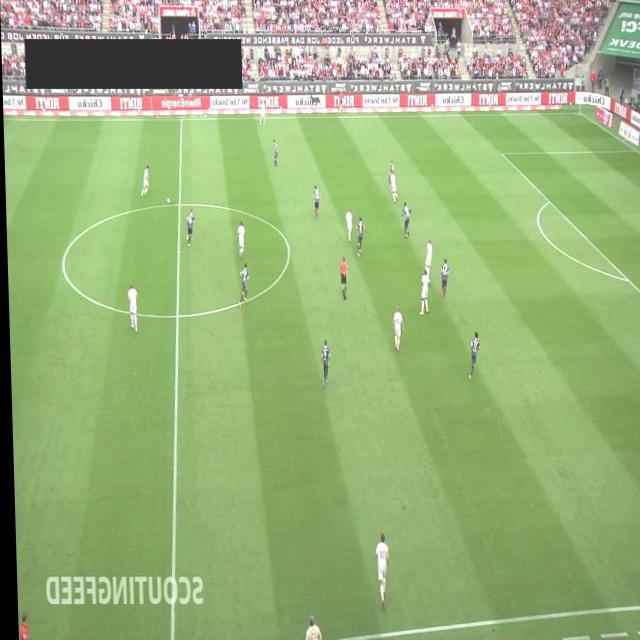player: (371, 532, 387, 610), (466, 330, 479, 380), (235, 262, 248, 310), (125, 282, 137, 332), (416, 269, 429, 315), (390, 305, 403, 351), (318, 339, 329, 389), (421, 238, 432, 278), (355, 216, 365, 258), (438, 258, 448, 298), (400, 200, 410, 238), (184, 208, 194, 246), (235, 221, 245, 259), (387, 169, 398, 203), (138, 165, 149, 197), (311, 184, 320, 220), (344, 206, 352, 242), (387, 159, 395, 191), (258, 101, 265, 127), (272, 139, 277, 169)
referee: (338, 256, 347, 300), (15, 611, 26, 639), (337, 89, 344, 115)
